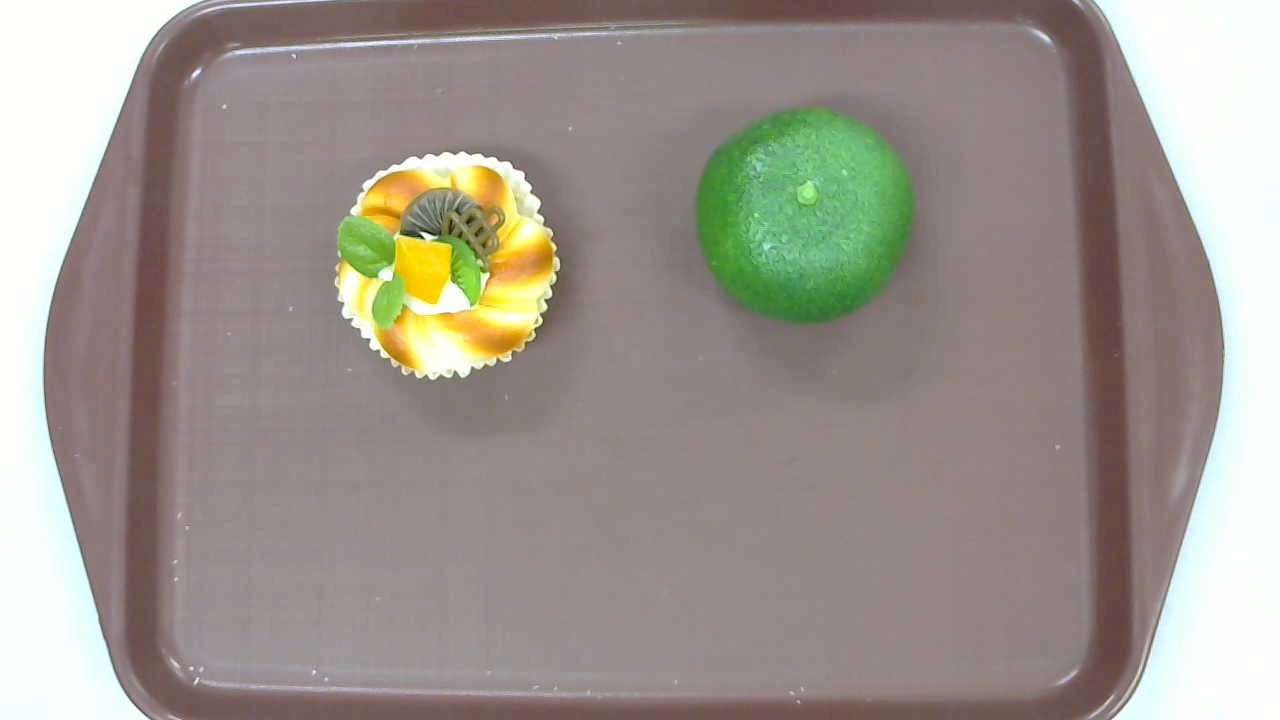fruit tart: (334, 151, 561, 381)
green orange: (694, 108, 914, 322)
